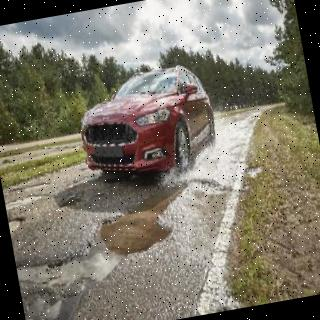pothole: (17, 183, 189, 320), (59, 193, 86, 207), (8, 216, 23, 239)
